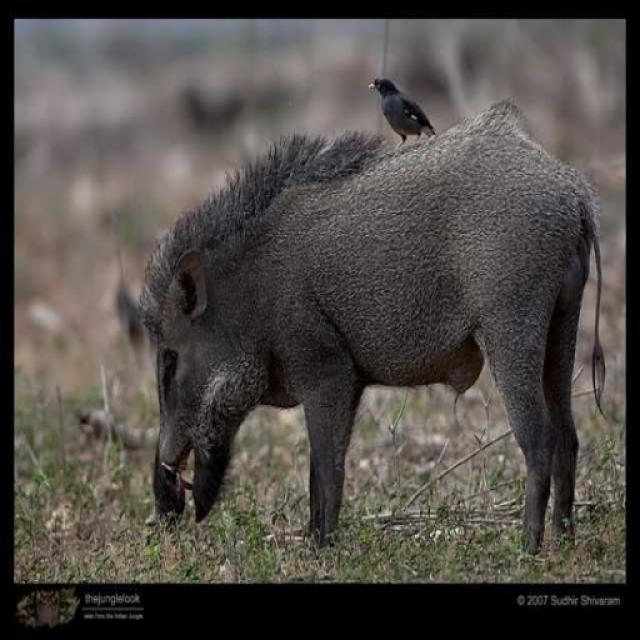pig: (124, 97, 627, 543)
